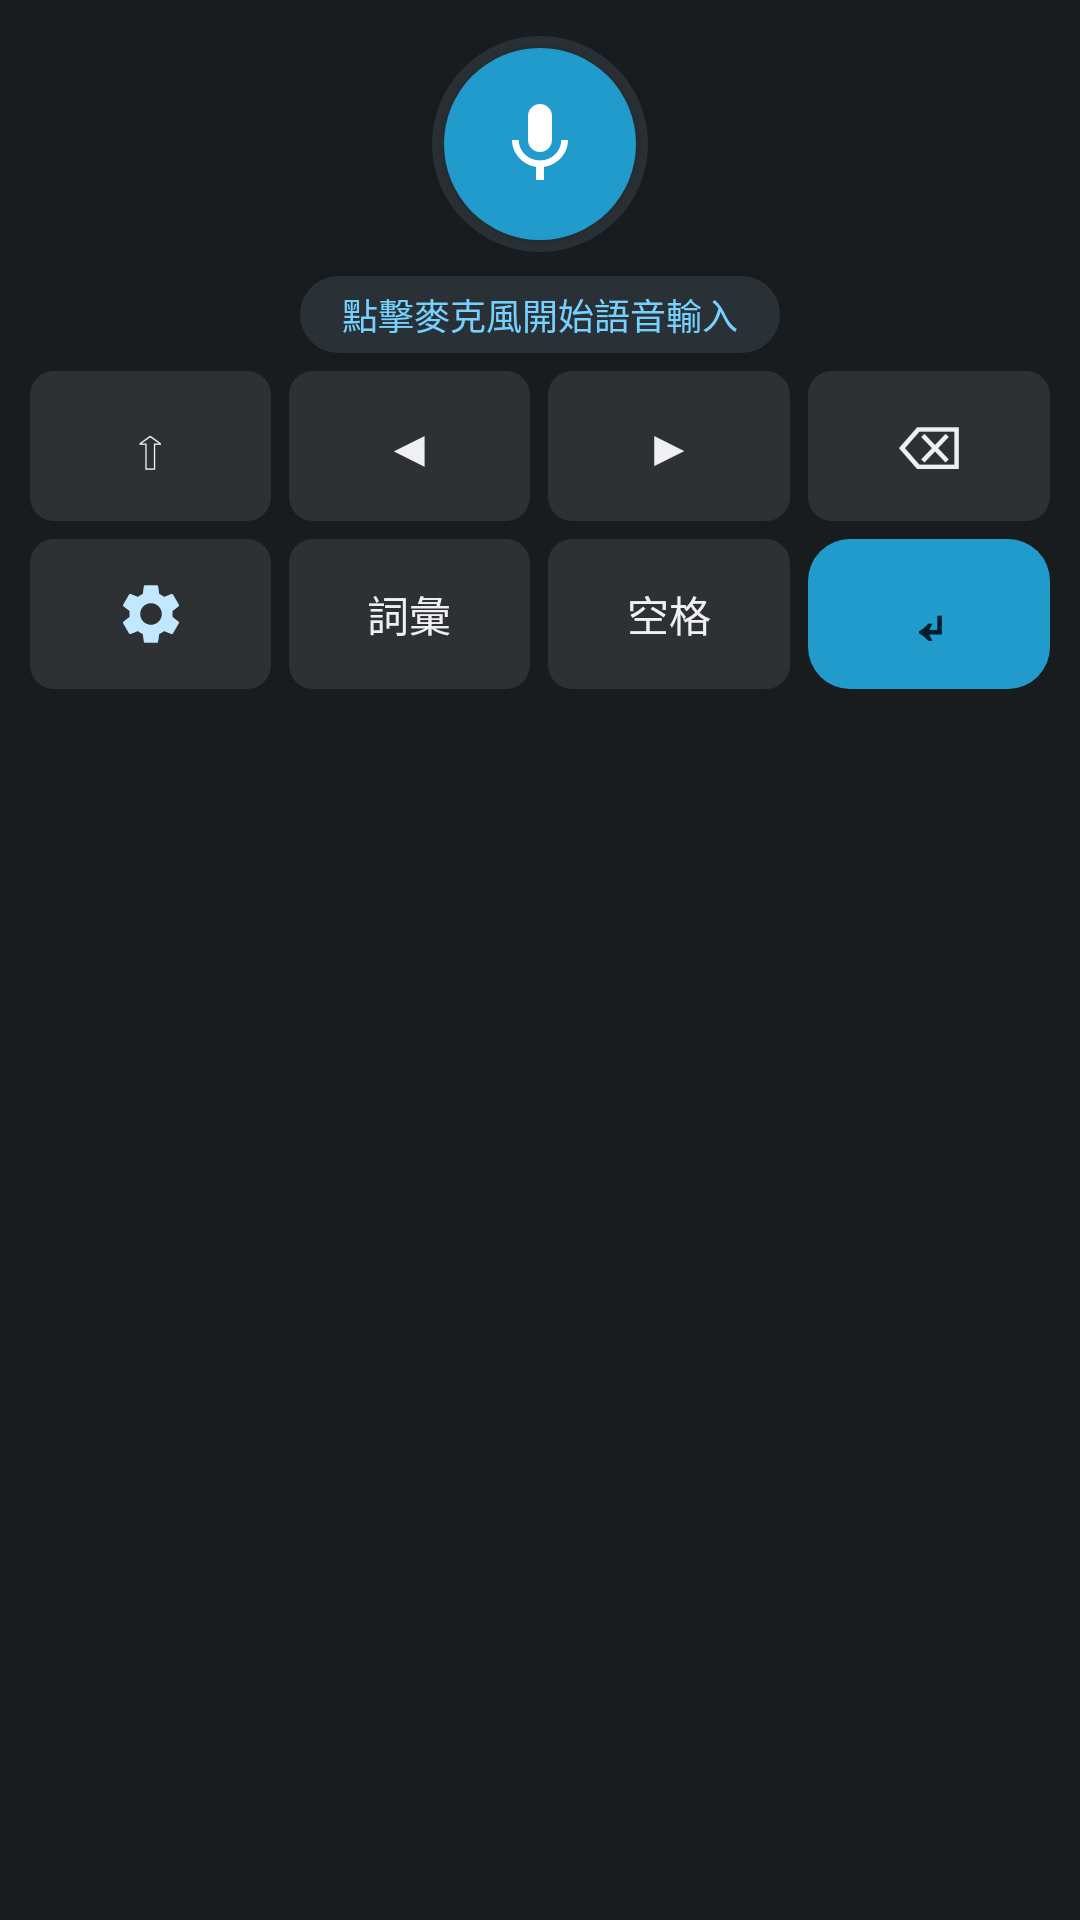

Icon bounding boxes for this 1080x1920 phone screenshot, format rect(x1, y1, x2, y2):
設定: rect(123, 585, 179, 643)
